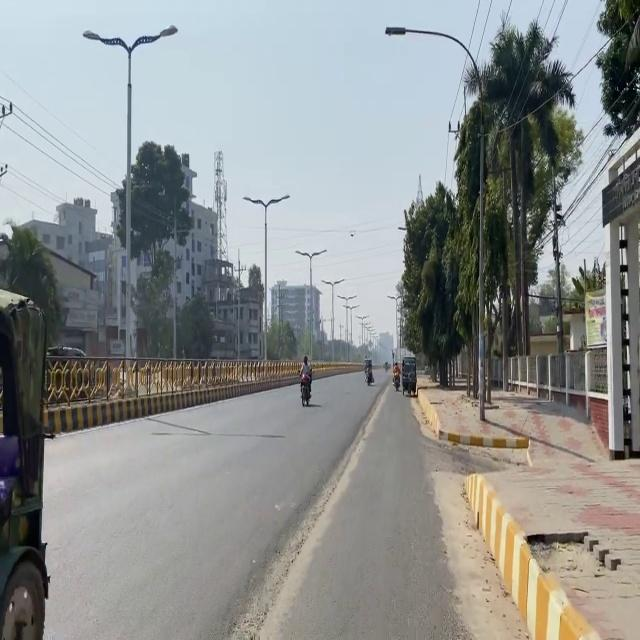Construction-barrier: (216, 423, 383, 640), (461, 471, 600, 639), (439, 430, 529, 449)
Fallen-tree: (364, 363, 374, 385)
Garbage-bin: (298, 355, 312, 405)
Pothole: (415, 376, 639, 638)
Traffic-cone: (0, 287, 54, 639)
